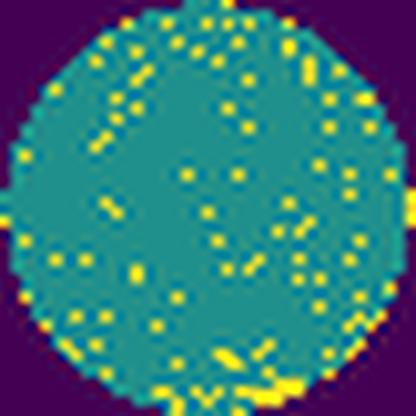Edge-Loc: (232, 362, 308, 414)
